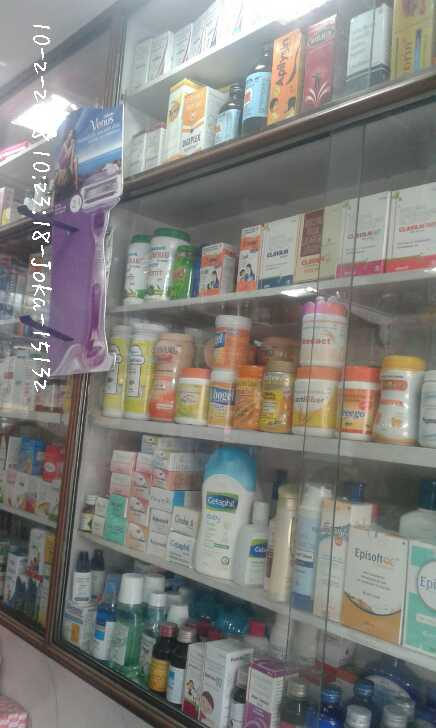reject: (110, 311, 229, 481)
